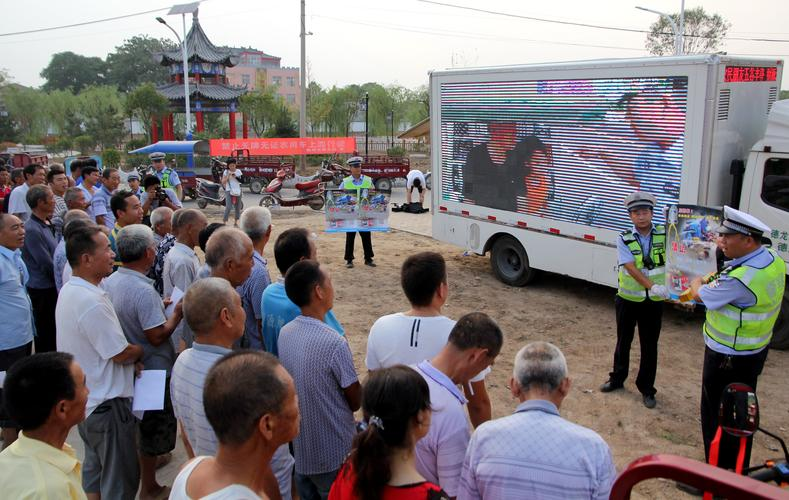empty: (203, 129, 410, 198)
